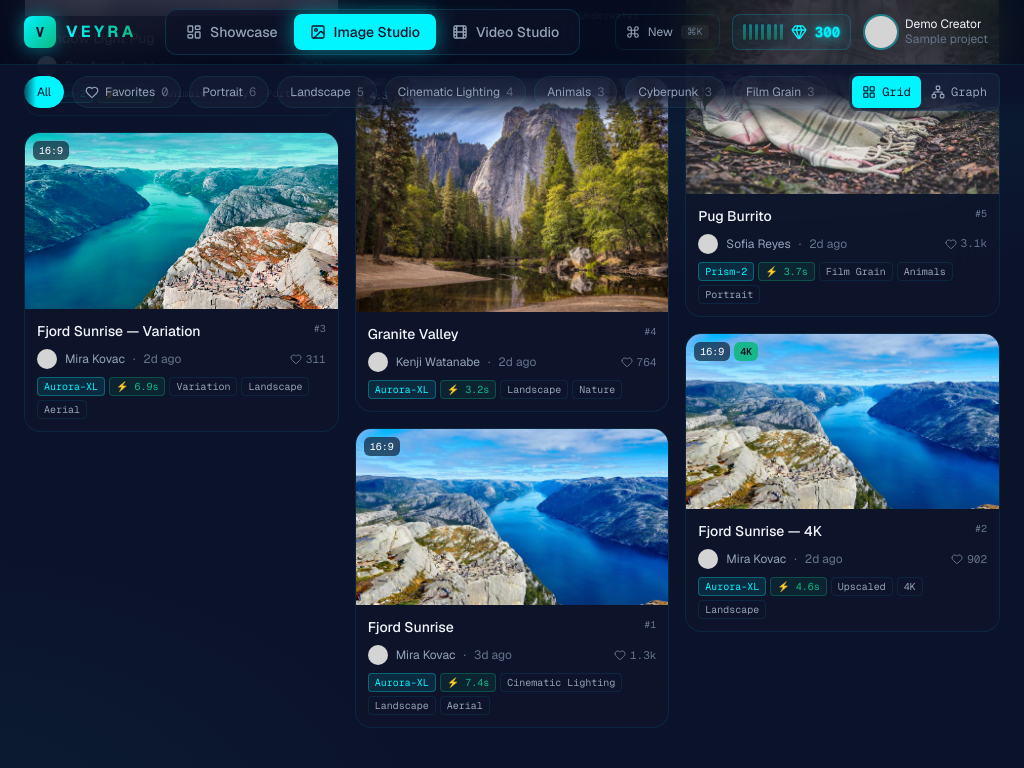
Test: Card actions & parameters drawer › clicking a card opens the drawer populated with that take's parameters
The image size is (1024, 768).
(page scrolled)
expect the navigation bar named "Studios" is shown: met, box [165, 9, 580, 55]
Click the element "Fjord Sunrise" at (512, 578), box [355, 428, 669, 728]
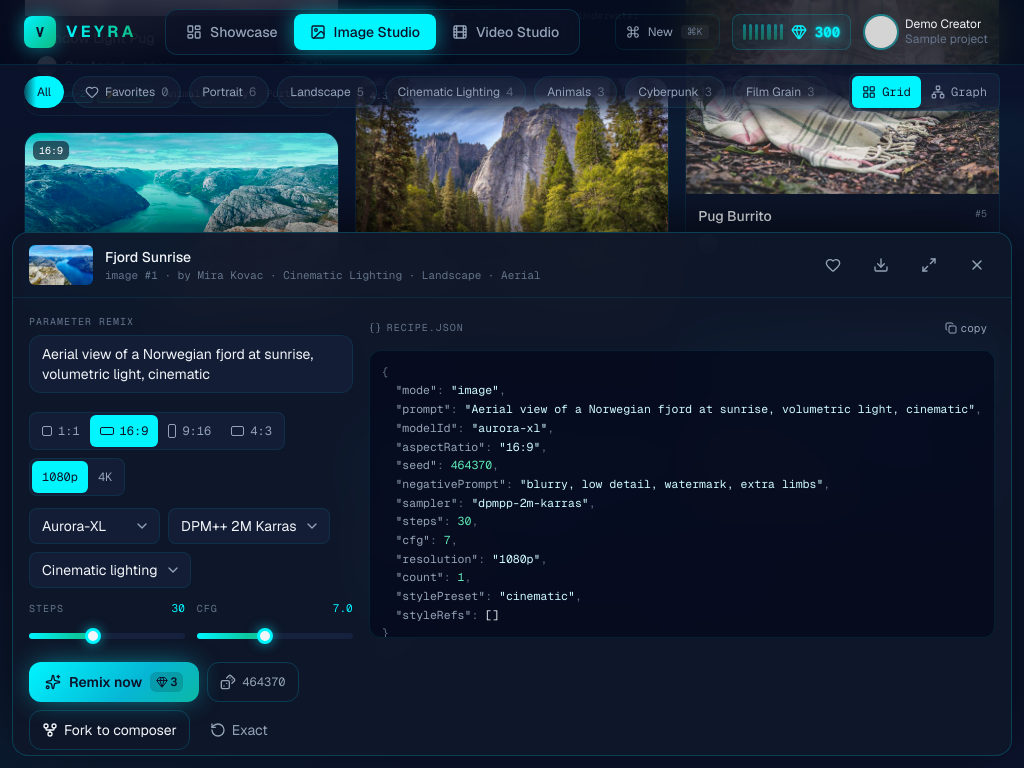
expect the text box named "Prompt" holds "Aerial view of a Norwegian fjord at sunrise, volumetric light, cinematic": met, box [29, 335, 353, 393]
expect the dropdown named "Model" shows "Aurora-XL": met, box [29, 508, 160, 544]
expect the dropdown named "Sampler" shows "DPM++ 2M Karras": met, box [168, 508, 330, 544]
